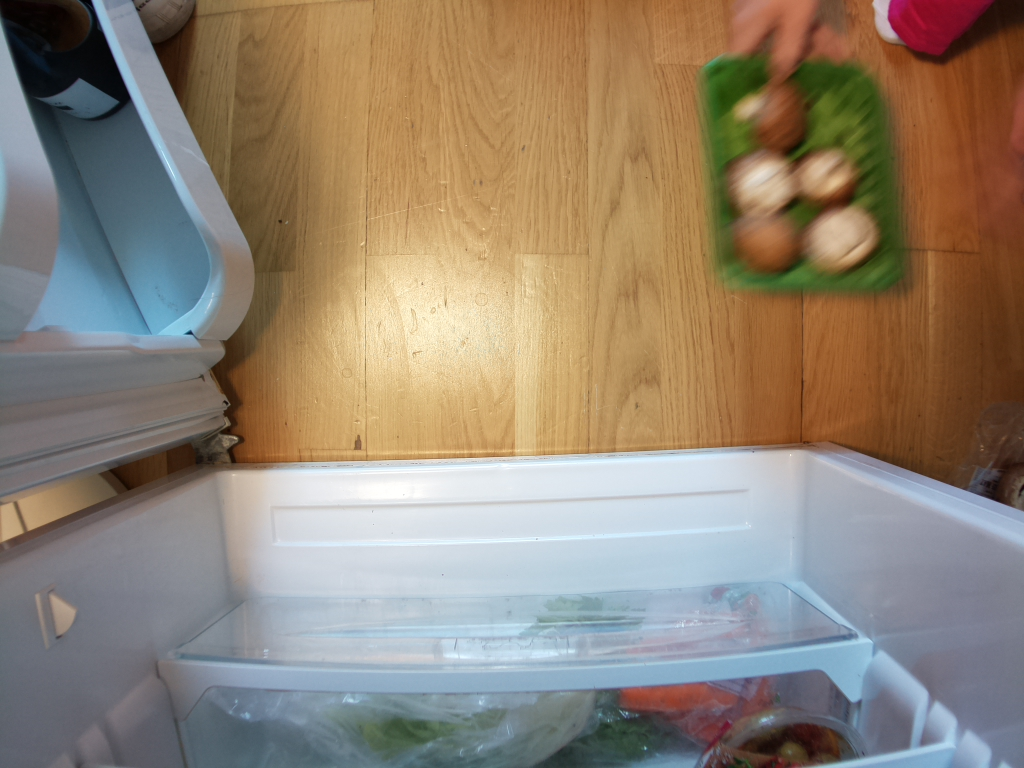mushrooms: (699, 53, 918, 300)
